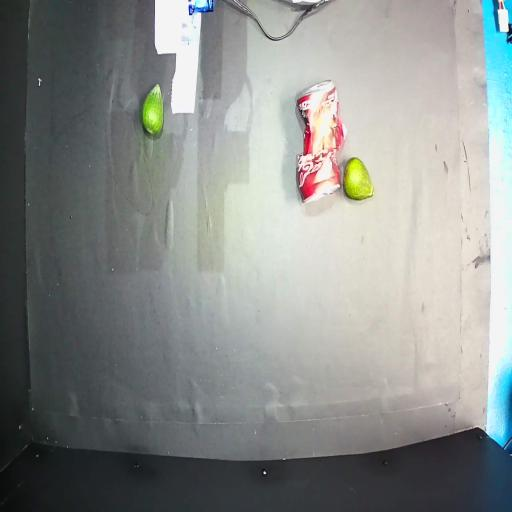higo: (297, 81, 346, 202), (344, 157, 374, 200), (142, 84, 164, 134)
lata_defectuoso: (297, 81, 346, 201)
